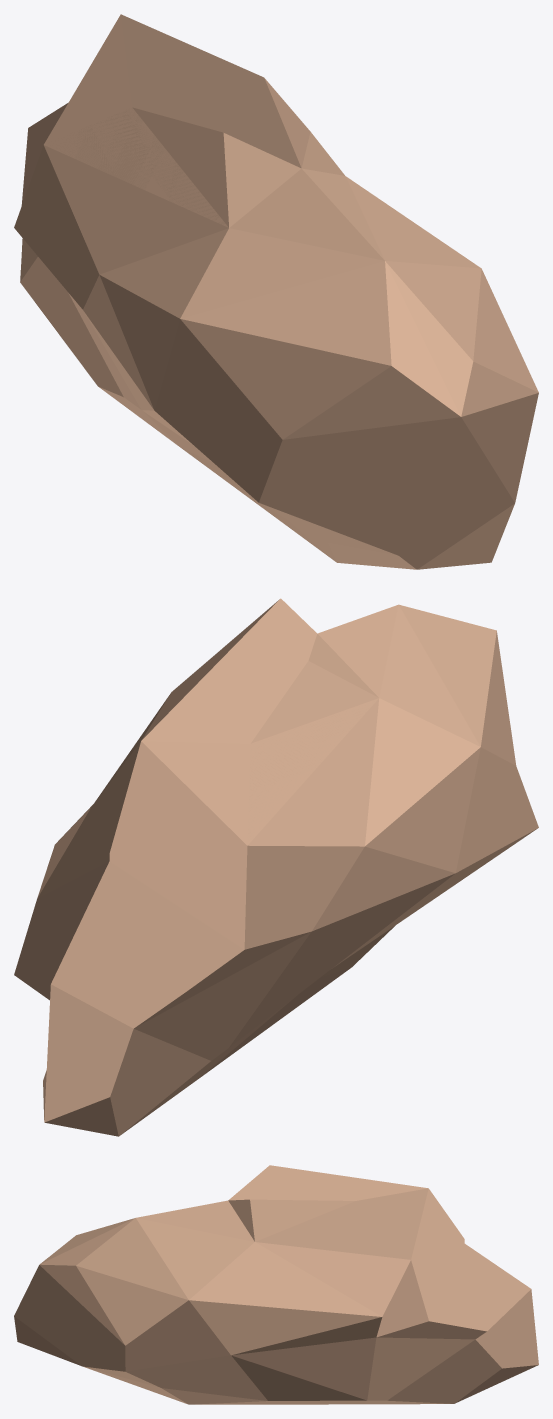
Rendered from Raw_Iron.fbx.
3 renders of one model, top to bottom at view 1: azimuth 30°, elevation 25°; view 2: azimuth 150°, elevation 25°; view 3: azimuth 270°, elevation 25°, orthographic. The views are drawn at different scales.
Parts seen in each view (by area): view 1: Plane; view 2: Plane; view 3: Plane.
Boxes of the visible parts, x1,y1,x2,y2 form: Plane: (14,14,538,569); Plane: (14,598,538,1136); Plane: (14,1165,538,1404).
Size of the model in its own units: 5.79 by 8.26 by 16.41.
